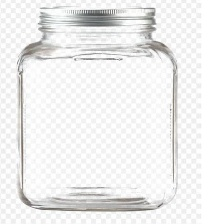bottle: (12, 4, 187, 215)
